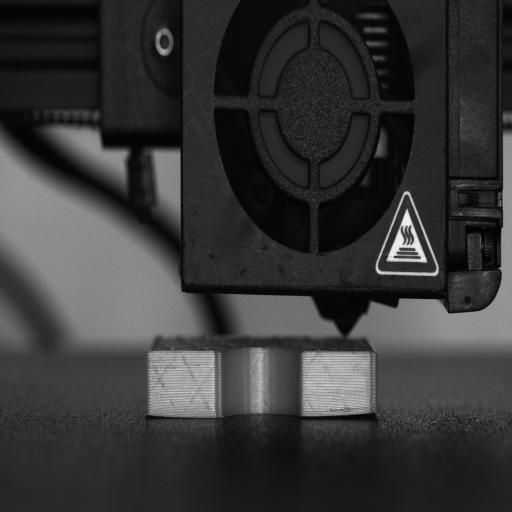warp: (335, 404, 379, 422), (143, 408, 163, 420)
